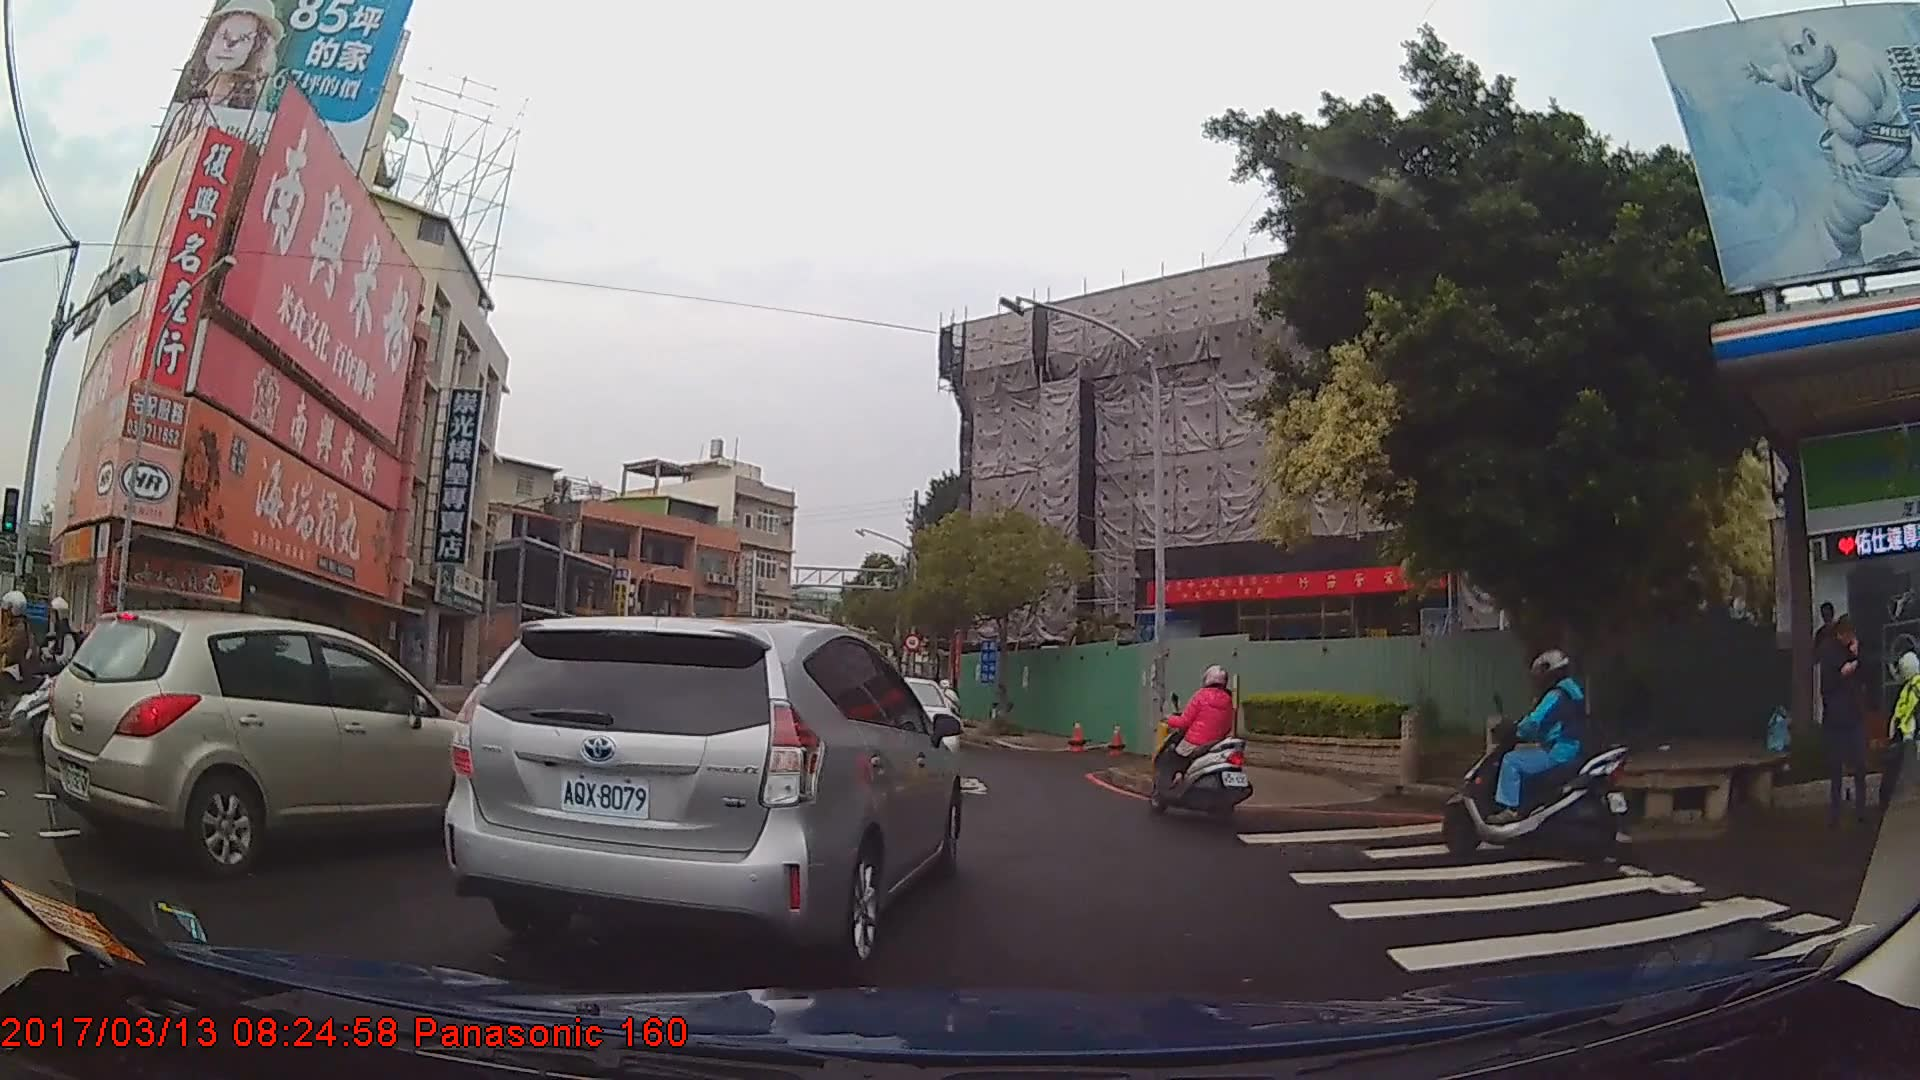pedestrian: (1816, 612, 1876, 801), (1807, 604, 1851, 740)
rider: (1446, 650, 1635, 863), (1147, 667, 1253, 829), (937, 680, 959, 754)
vehicle: (437, 616, 962, 972), (43, 607, 508, 877)
